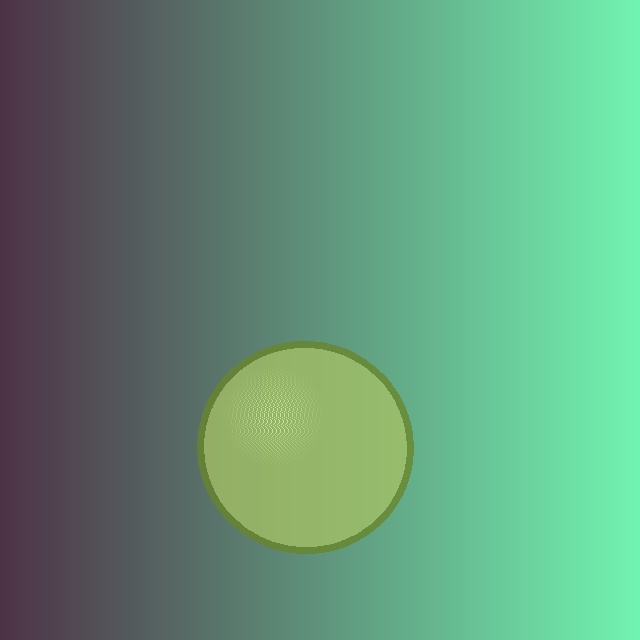lens: (200, 344, 410, 550)
